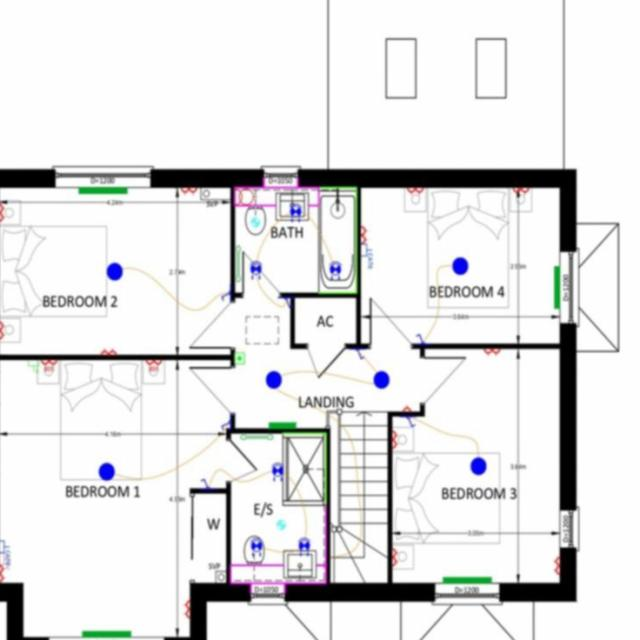Cat 6 Data Socket: (359, 243, 372, 268), (0, 540, 9, 563)
Ceiling Mounted Continuous Extract FanWith Boost Mode Activated By Light Switch: (276, 519, 284, 529), (251, 217, 259, 226)
Double Socket: (406, 187, 424, 195), (511, 187, 529, 195), (552, 556, 559, 576), (483, 348, 500, 356), (360, 225, 367, 244), (180, 187, 197, 194), (392, 429, 398, 448), (182, 599, 188, 618), (100, 347, 116, 354), (392, 548, 398, 566), (0, 564, 6, 582), (0, 202, 5, 221), (0, 321, 5, 338)
Full Height Tiling: (319, 186, 357, 293), (284, 431, 326, 503)
Light Switch: (220, 290, 230, 301), (354, 348, 364, 359), (414, 333, 424, 343), (405, 416, 415, 426), (220, 420, 230, 430), (199, 478, 210, 487), (284, 297, 290, 308)
Low Energy Downlighter: (288, 202, 302, 222), (328, 260, 341, 279), (249, 260, 261, 279), (270, 462, 282, 481), (298, 537, 310, 556), (250, 538, 262, 556)
Low Energy Pendant Light: (97, 462, 115, 480), (451, 256, 468, 275), (105, 262, 122, 280), (373, 369, 389, 388), (265, 370, 281, 388), (470, 456, 485, 474)
Programmable Room Thermostat: (234, 352, 244, 363)
Radiator: (78, 186, 126, 194), (442, 576, 490, 584), (82, 630, 130, 638), (554, 266, 559, 308), (268, 422, 296, 428)
Shaver Socket: (232, 188, 257, 203)
Single Socket: (402, 404, 410, 410)
TV - Satellite Multisocket: (0, 552, 10, 568)
USB Double Socket: (144, 359, 163, 371), (40, 359, 57, 371)
